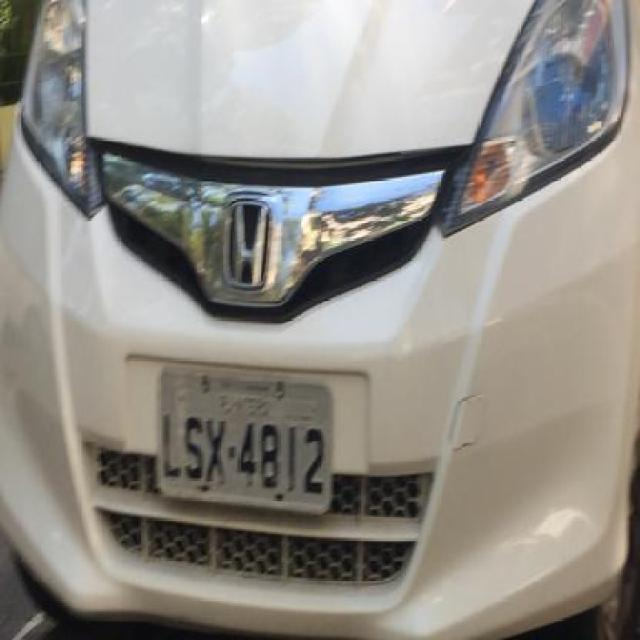old_plate: (151, 365, 342, 519)
